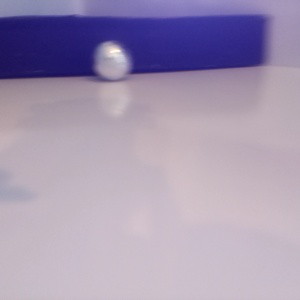zone: (1, 14, 267, 79)
